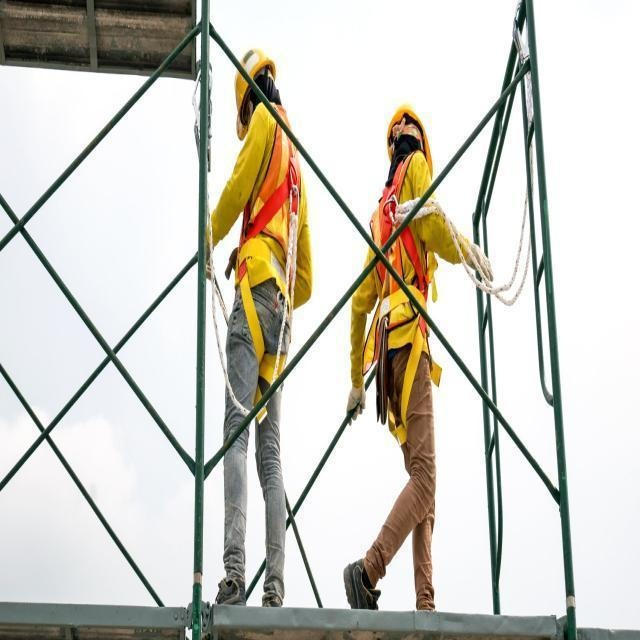Arnes_seguridad: (232, 108, 301, 383), (371, 152, 430, 445)
